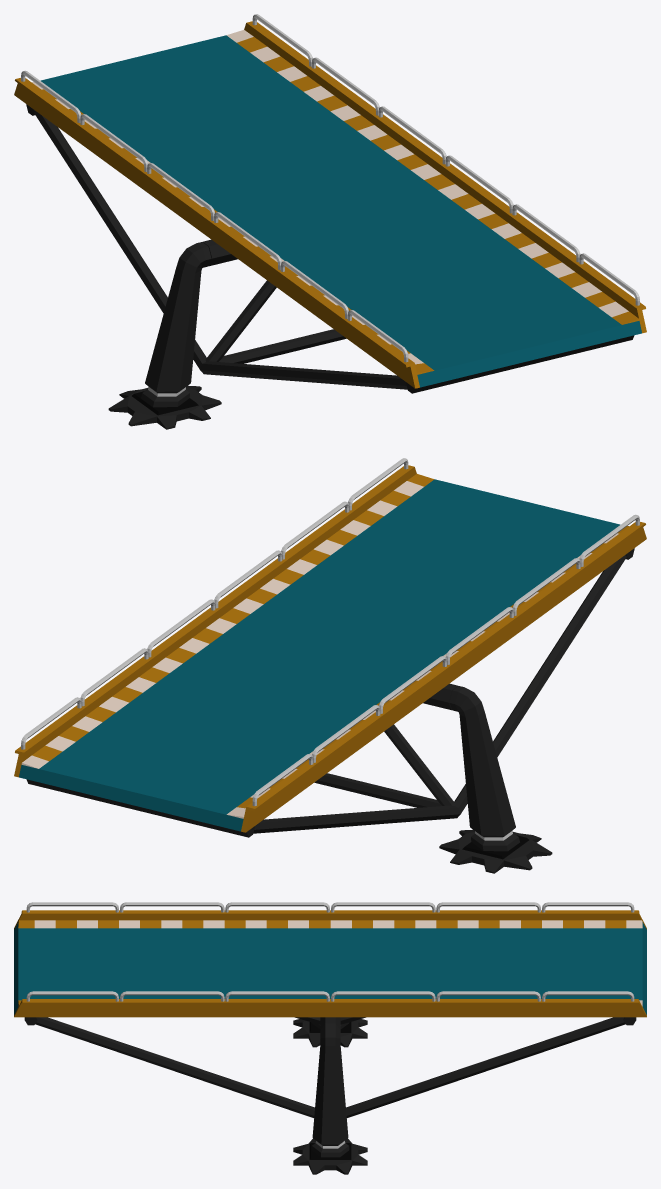
The model's file is seasawBridge.FBX.
The picture shows the model from 3 angles, top to bottom: view 1: azimuth 30°, elevation 25°; view 2: azimuth 150°, elevation 25°; view 3: azimuth 270°, elevation 25°; orthographic projection. The views are drawn at different scales.
Parts seen in each view (by area): view 1: ground, wall_r, bridgeSupport, wall_l, seasawBridge, curbs_l, curbs_r; view 2: ground, wall_r, bridgeSupport, wall_l, seasawBridge, curbs_l, curbs_r; view 3: ground, wall_l, wall_r, bridgeSupport, seasawBridge, curbs_r.
Part boxes in pixels (x1,y1,x2,y2): ground: [40, 35, 641, 387]; wall_r: [14, 70, 419, 388]; bridgeSupport: [26, 104, 634, 393]; wall_l: [244, 14, 646, 333]; seasawBridge: [108, 242, 221, 429]; curbs_l: [226, 30, 639, 324]; curbs_r: [32, 82, 434, 374]; ground: [19, 479, 620, 831]; wall_r: [241, 514, 646, 832]; bridgeSupport: [26, 548, 634, 837]; wall_l: [14, 458, 416, 777]; seasawBridge: [439, 686, 552, 873]; curbs_l: [21, 474, 434, 768]; curbs_r: [226, 526, 628, 818]; ground: [14, 922, 646, 1014]; wall_l: [14, 991, 646, 1017]; wall_r: [14, 902, 646, 929]; bridgeSupport: [24, 1017, 636, 1117]; seasawBridge: [293, 1019, 367, 1174]; curbs_r: [18, 920, 642, 928].
Size of what is drawn, in the model's own units: 364 by 600 by 153.
